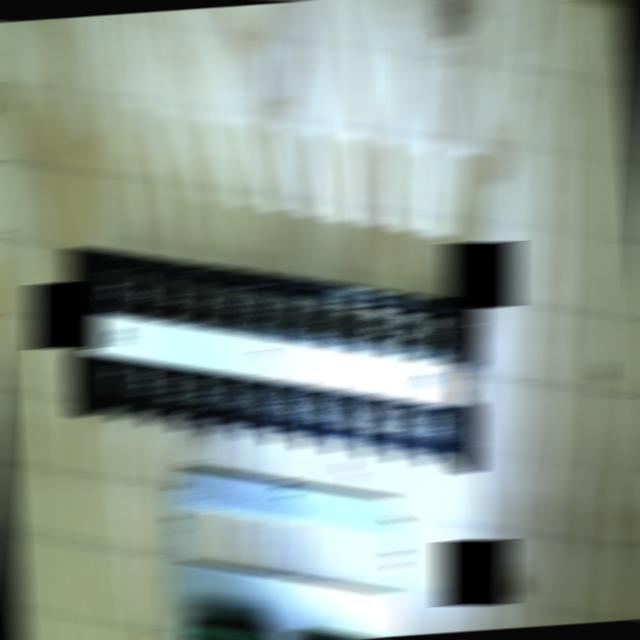Phillips_Block: (41, 247, 502, 471)
